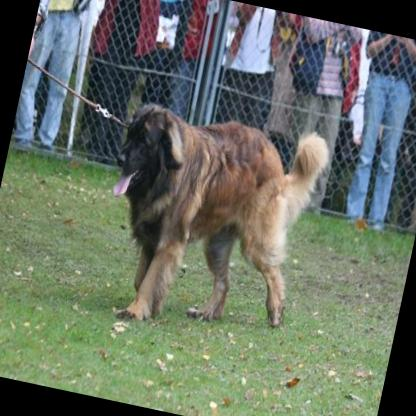Leonberg: (81, 88, 333, 355)
